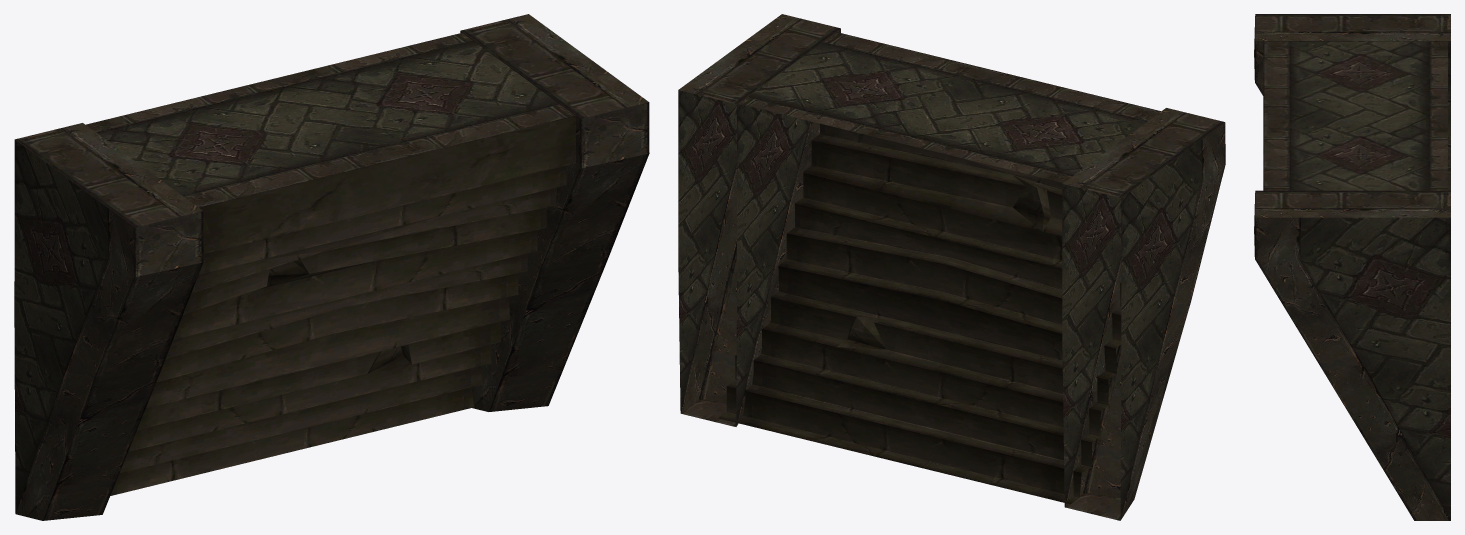
File: juqing_fuben_taijie_292_01.obj
The picture shows the model from 3 angles, left to right: view 1: azimuth 30°, elevation 25°; view 2: azimuth 150°, elevation 25°; view 3: azimuth 270°, elevation 25°; orthographic projection. The views are drawn at different scales.
Parts seen in each view (by area): view 1: Object02; view 2: Object02; view 3: Object02.
Boxes of the visible parts, x1,y1,x2,y2 form: Object02: (14,14,649,520); Object02: (678,14,1225,520); Object02: (1254,14,1450,520).
Bounding box in the file's own units: 432 × 301 × 176.
2 materials, 2 textured.
